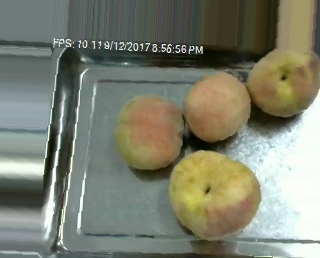Peach: (168, 150, 260, 239), (114, 95, 184, 171), (250, 45, 317, 118), (183, 71, 250, 142)
